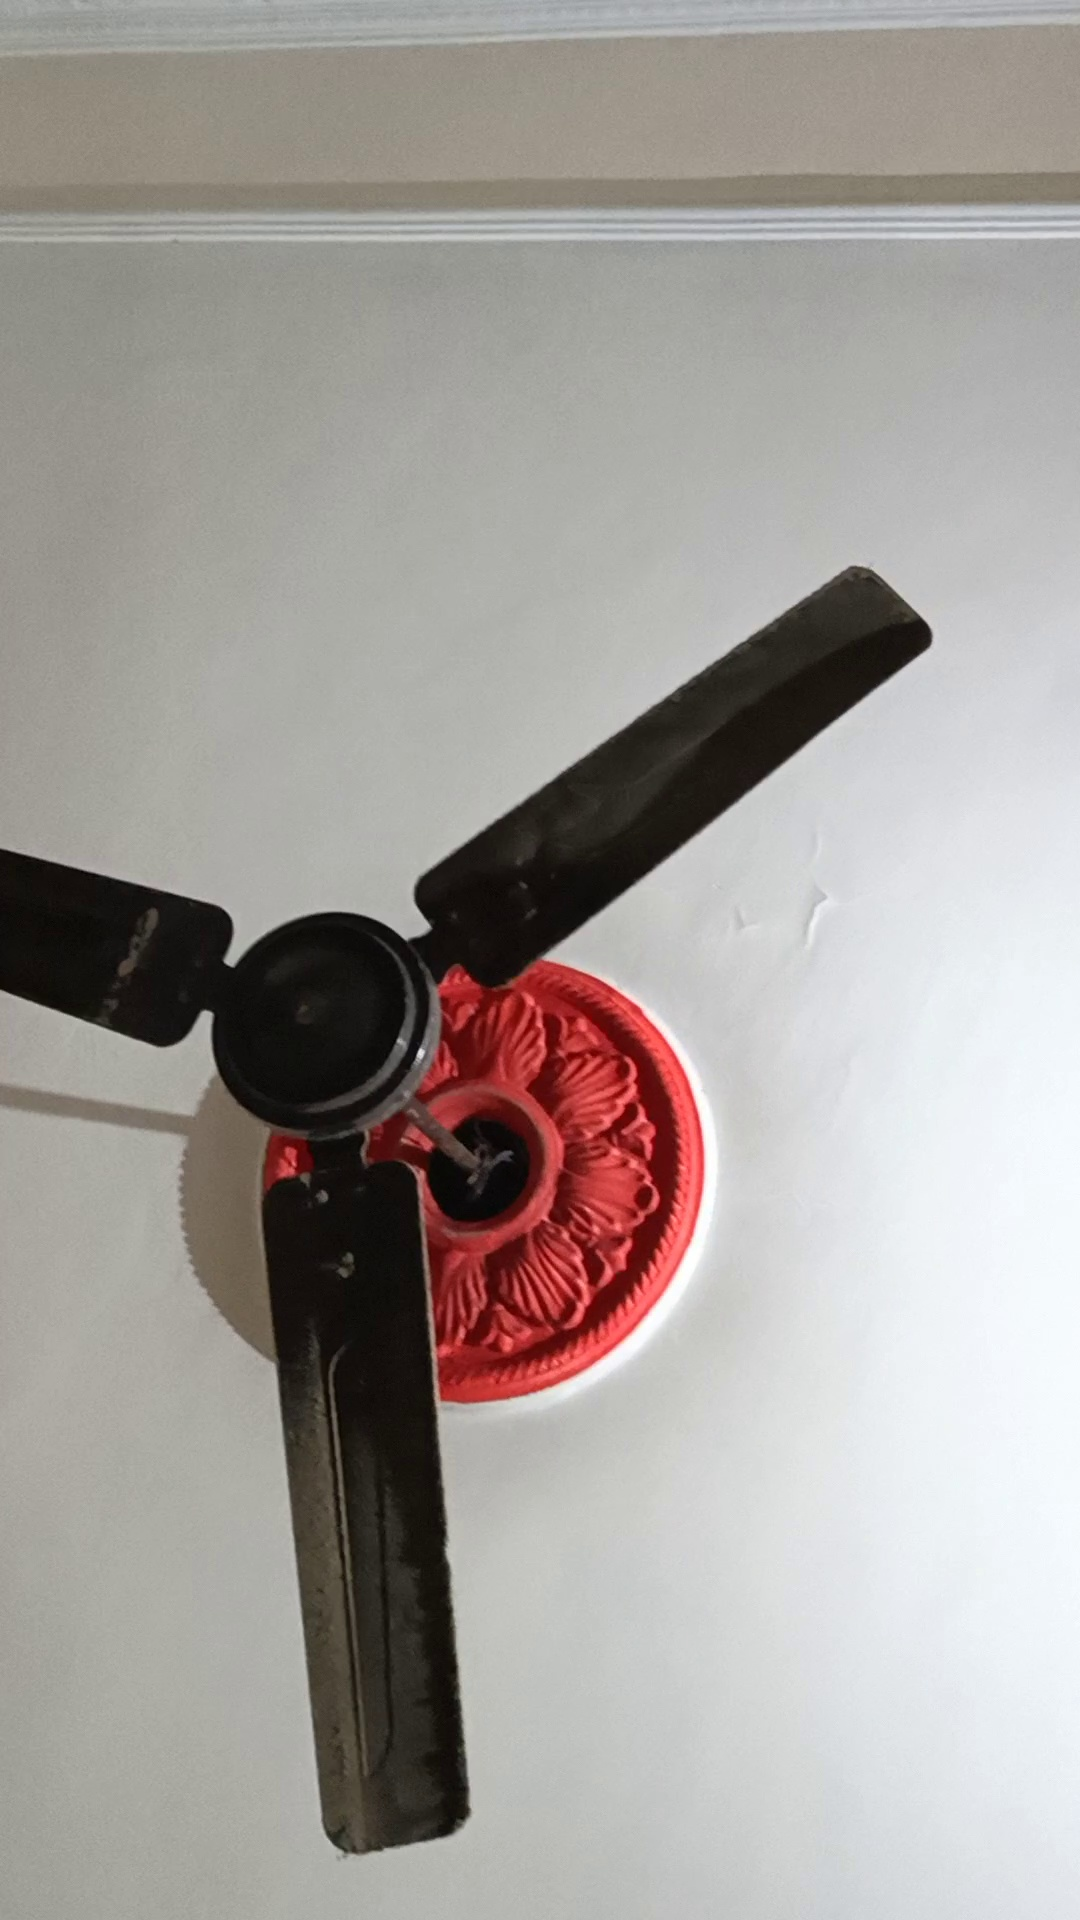fan: (1, 543, 934, 1866)
